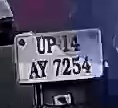1: (62, 33, 71, 56)
2: (62, 56, 73, 75)
4: (68, 34, 82, 53), (81, 55, 91, 74)
5: (70, 55, 82, 76)
7: (51, 57, 62, 77)
A: (29, 60, 40, 82)
P: (45, 35, 58, 56)
U: (34, 36, 46, 55)
Y: (37, 59, 49, 81)
